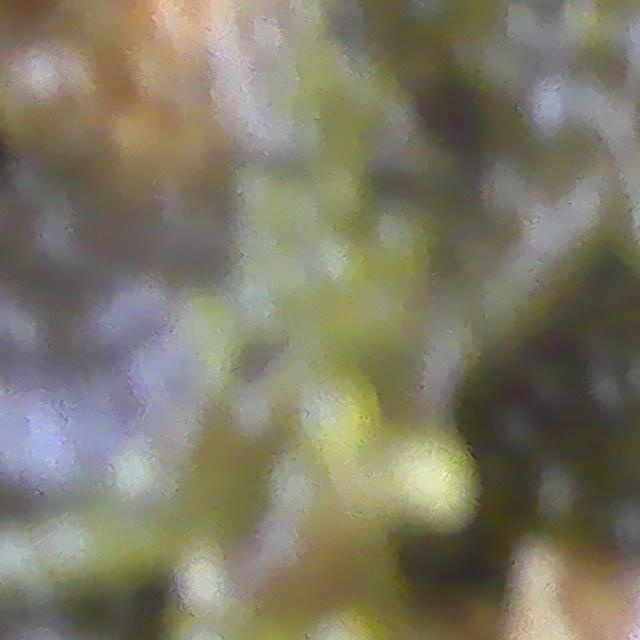SeaGrape: (384, 430, 483, 535)
